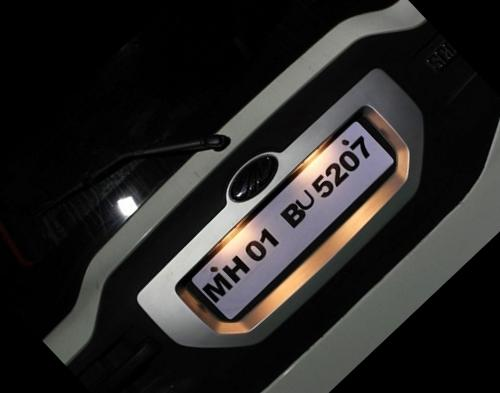plate: (179, 98, 413, 325)
